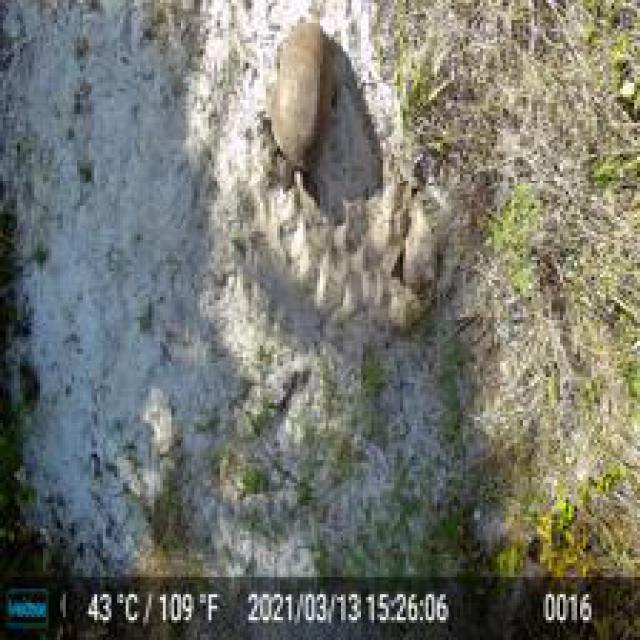tortoise: (263, 12, 340, 192)
